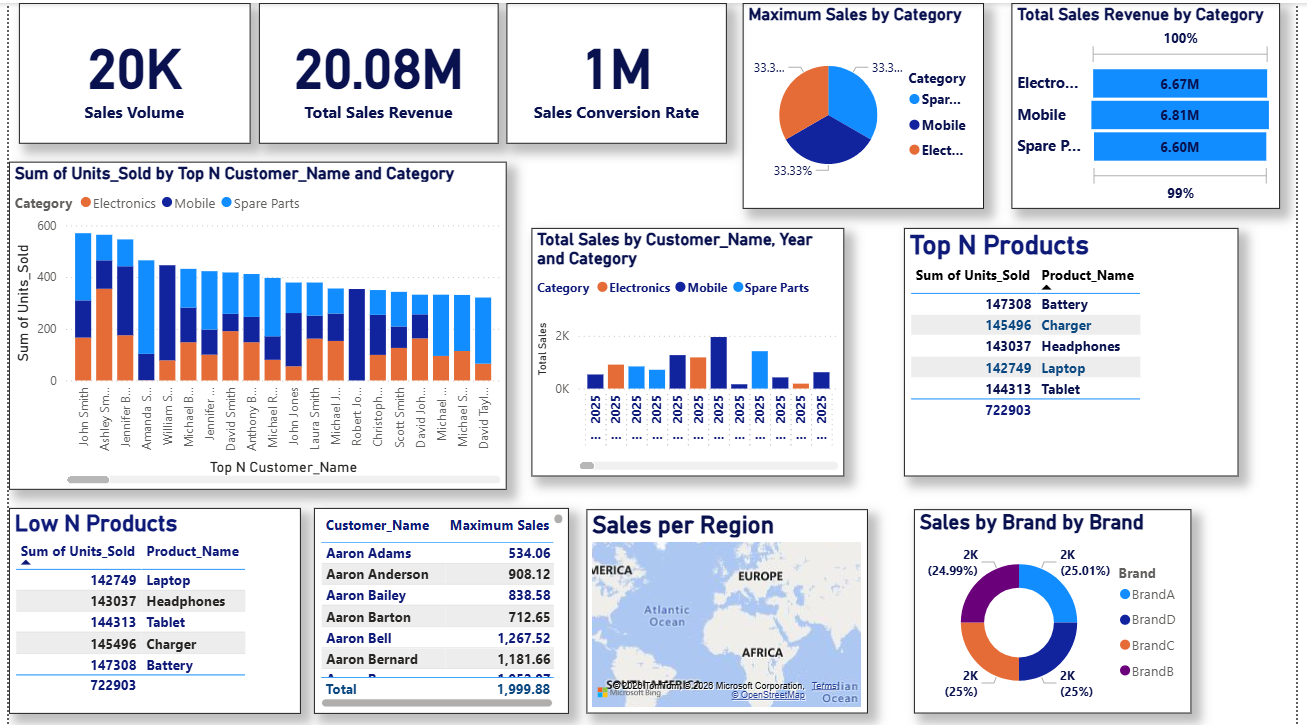

The dashboard page shown, as its layout file describes it:
{"tool":"powerbi","page":{"name":"Page 1","canvas":[1280,720],"ordinal":0},"visuals":[{"type":"card","fields":{"Values":["Database.Sales Volume"]},"box":[9.6,0,230.5,140],"z":0},{"type":"card","fields":{"Values":["Database.Total Sales Revenue"]},"box":[248.4,0,238.8,140],"z":1000},{"type":"tableEx","title":"Top N Products","fields":{"Values":["Sum(Database.Units_Sold)","Database.Product_Name"]},"box":[890.3,223.4,332.6,246.9],"z":2000},{"type":"tableEx","title":"Low N Products","fields":{"Values":["Sum(Database.Units_Sold)","Database.Product_Name"]},"box":[0,502.3,290.6,204.9],"z":3000},{"type":"columnChart","fields":{"Category":["Database.Customer_Name"],"Y":["Sum(Database.Units_Sold)"],"Series":["Database.Category"]},"box":[0,157.8,495.4,326.6],"z":4000},{"type":"pieChart","fields":{"Category":["Database.Category"],"Y":["Database.Maximum Sales"]},"box":[730,0,240.1,204.5],"z":5000},{"type":"funnel","fields":{"Category":["Database.Category","Database.Sales_Date.Variation.Date Hierarchy.Year","Database.Sales_Date.Variation.Date Hierarchy.Quarter","Database.Sales_Date.Variation.Date Hierarchy.Month","Database.Sales_Date.Variation.Date Hierarchy.Day"],"Y":["Database.Total Sales Revenue"]},"box":[997.6,0,267.6,204.5],"z":6000},{"type":"columnChart","fields":{"Category":["Database.Customer_Name","Database.Sales_Date.Variation.Date Hierarchy.Year"],"Series":["Database.Category"],"Y":["Database.Total Sales"]},"box":[520.1,223.7,311.5,247],"z":7000},{"type":"tableEx","fields":{"Values":["Database.Customer_Name","Database.Maximum Sales"]},"box":[303.3,502.2,253.9,204.5],"z":8000},{"type":"card","fields":{"Values":["Database.Sales Conversion Rate"]},"box":[495.4,0,219.6,140],"z":9000},{"type":"filledMap","box":[575,503.6,279.9,203.1],"z":10000},{"type":"donutChart","fields":{"Category":["Database.Brand"],"Y":["Database.Sales by Brand"]},"box":[900.2,503.6,275.8,203.1],"z":11000},{"type":"qnaVisual","box":[1130,503.6,150,203.1],"z":11001}]}

Visuals, with their boxes in screenshot pixels (x1, y1, x2, y2), scaled from the page's 1280x720 canvas onto the 1307x725 screenshot:
card - Database.Sales Volume: {"x1": 10, "y1": 0, "x2": 245, "y2": 141}
card - Database.Total Sales Revenue: {"x1": 254, "y1": 0, "x2": 497, "y2": 141}
"Top N Products" tableEx: {"x1": 909, "y1": 225, "x2": 1249, "y2": 474}
"Low N Products" tableEx: {"x1": 0, "y1": 506, "x2": 297, "y2": 712}
columnChart - Database.Customer_Name x Sum(Database.Units_Sold): {"x1": 0, "y1": 159, "x2": 506, "y2": 488}
pieChart - Database.Category x Database.Maximum Sales: {"x1": 745, "y1": 0, "x2": 991, "y2": 206}
funnel - Database.Category x Database.Sales_Date.Variation.Date Hierarchy.Year: {"x1": 1019, "y1": 0, "x2": 1292, "y2": 206}
columnChart - Database.Customer_Name x Database.Sales_Date.Variation.Date Hierarchy.Year: {"x1": 531, "y1": 225, "x2": 849, "y2": 474}
tableEx - Database.Customer_Name x Database.Maximum Sales: {"x1": 310, "y1": 506, "x2": 569, "y2": 712}
card - Database.Sales Conversion Rate: {"x1": 506, "y1": 0, "x2": 730, "y2": 141}
filledMap: {"x1": 587, "y1": 507, "x2": 873, "y2": 712}
donutChart - Database.Brand x Database.Sales by Brand: {"x1": 919, "y1": 507, "x2": 1201, "y2": 712}
qnaVisual: {"x1": 1154, "y1": 507, "x2": 1306, "y2": 712}
